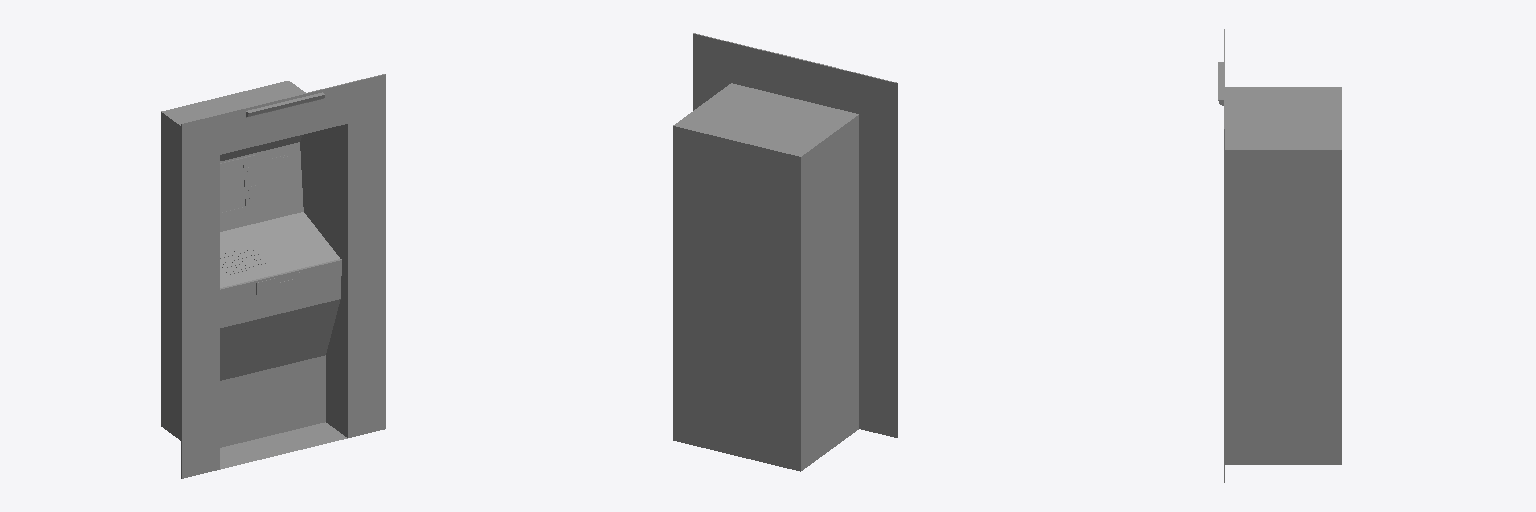
File: atm.obj
3 views of the same model, side by side, from view 1: azimuth 30°, elevation 25°; view 2: azimuth 150°, elevation 25°; view 3: azimuth 270°, elevation 25° (orthographic).
Parts seen in each view (by area): view 1: Plane; view 2: Plane; view 3: Plane.
Boxes of the visible parts, x1=… form: Plane: x1=161, y1=74, x2=385, y2=478; Plane: x1=673, y1=33, x2=897, y2=471; Plane: x1=1218, y1=29, x2=1341, y2=482.
Bounding box in the file's own units: 1.6 × 2.65 × 0.84.